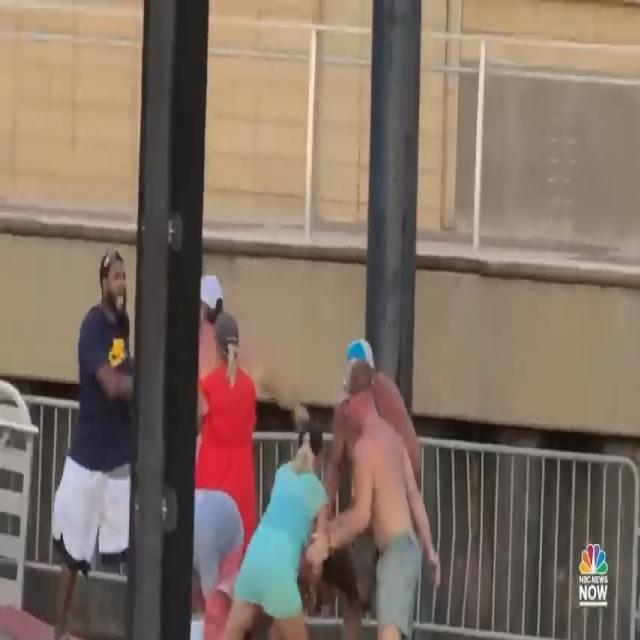fight: (46, 226, 440, 630)
